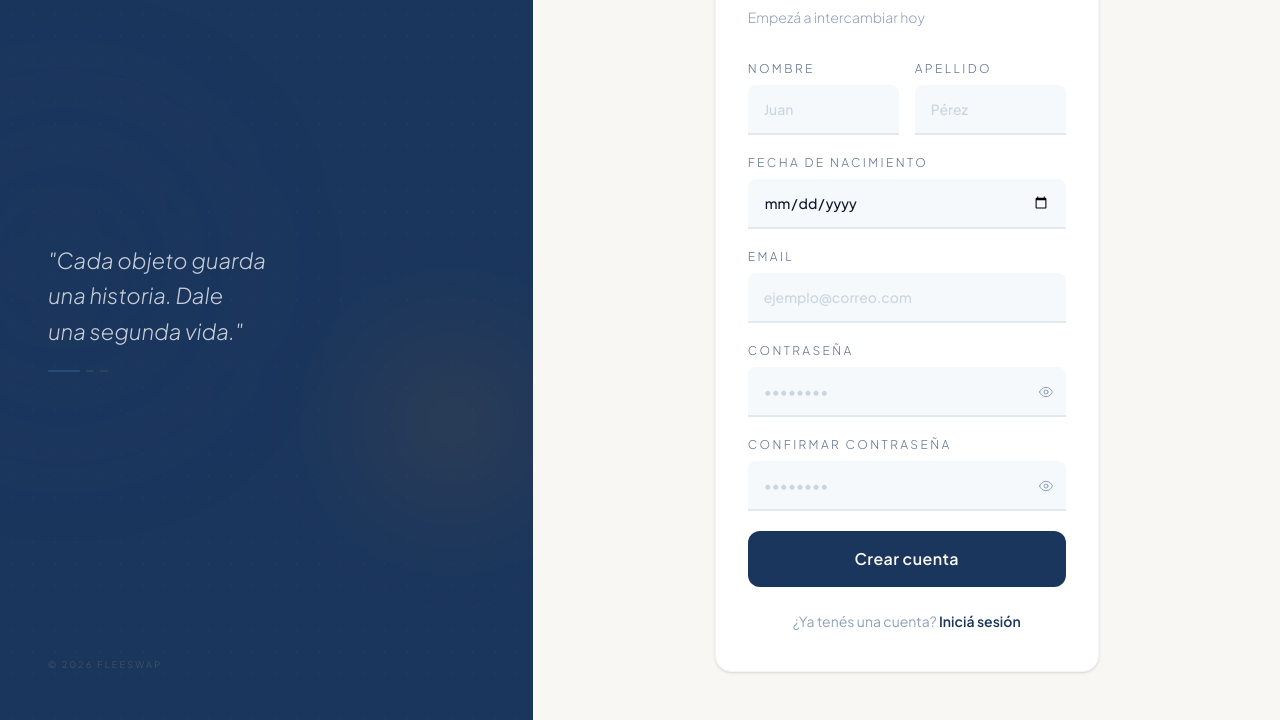
Test: Register › valida campos requeridos en el cliente
(page scrolled)
Click the button "Crear cuenta": (907, 559) [748,531,1066,587]
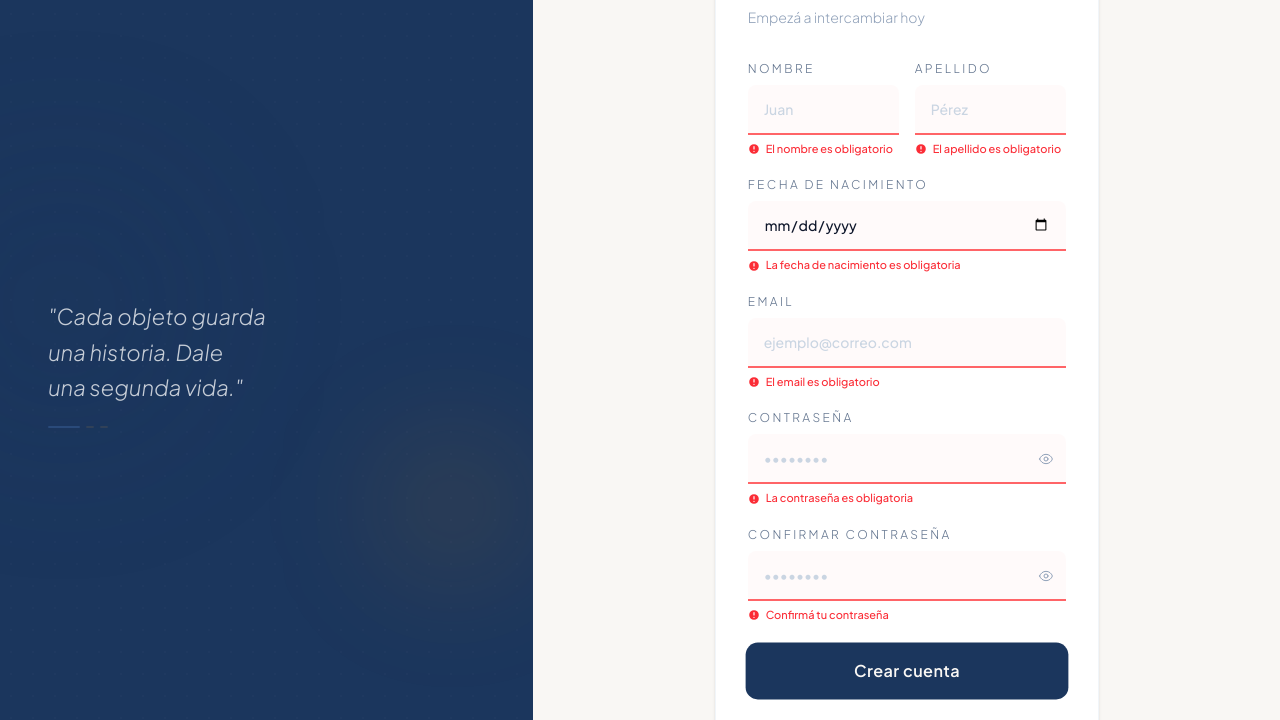
Result: the text "El nombre es obligatorio" is shown at [748,142,893,155]
Result: the text "El apellido es obligatorio" is shown at [915,142,1061,155]
Result: the text "La fecha de nacimiento es obligatoria" is shown at [748,258,961,272]
